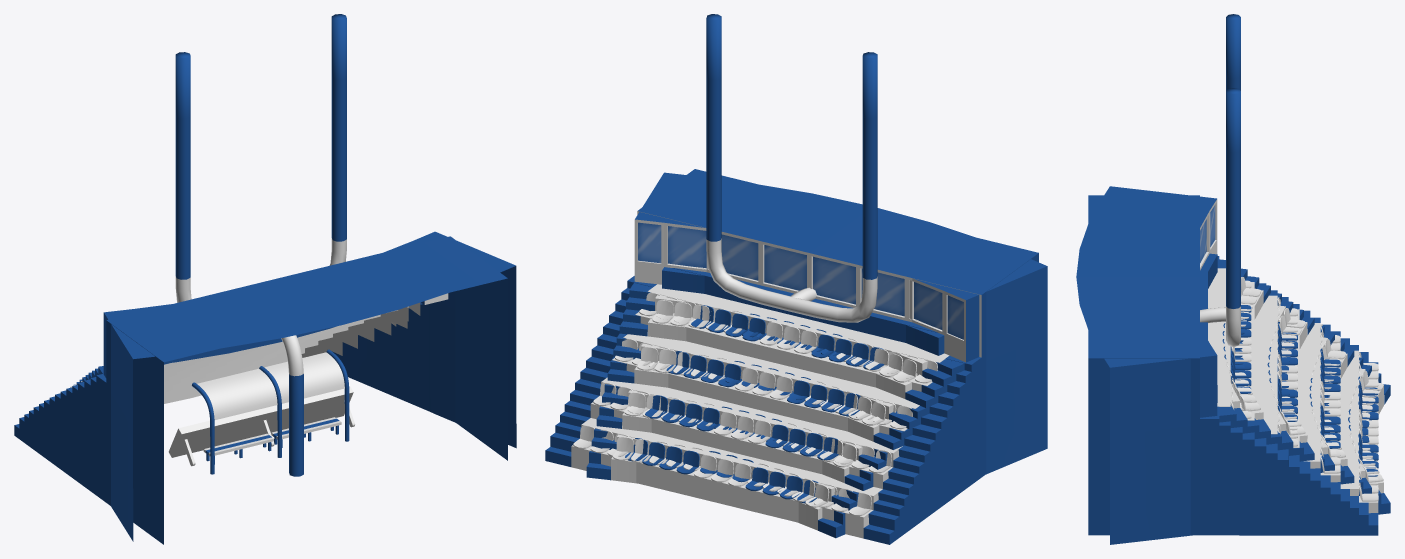
File: Environment.fbx
3 renders of one model, left to right at view 1: azimuth 30°, elevation 25°; view 2: azimuth 150°, elevation 25°; view 3: azimuth 270°, elevation 25°, orthographic. The views are drawn at different scales.
Visible parts, largest first — view 1: SeatsFlat, SeatsCurvy, Goal, Benches, Ads; view 2: SeatsFlat, SeatsCurvy, Goal; view 3: SeatsFlat, SeatsCurvy, Goal.
Part boxes in pixels (x1,y1,x2,y2): SeatsFlat: [14, 236, 507, 544]; SeatsCurvy: [74, 231, 516, 541]; Goal: [175, 14, 346, 476]; Benches: [192, 349, 349, 474]; Ads: [168, 386, 355, 466]; SeatsFlat: [545, 169, 1038, 544]; SeatsCurvy: [586, 172, 1047, 538]; Goal: [706, 14, 877, 322]; SeatsFlat: [1088, 195, 1378, 535]; SeatsCurvy: [1076, 186, 1390, 544]; Goal: [1200, 14, 1240, 347].
Size of the model in its own units: 1135 by 1167 by 830.
